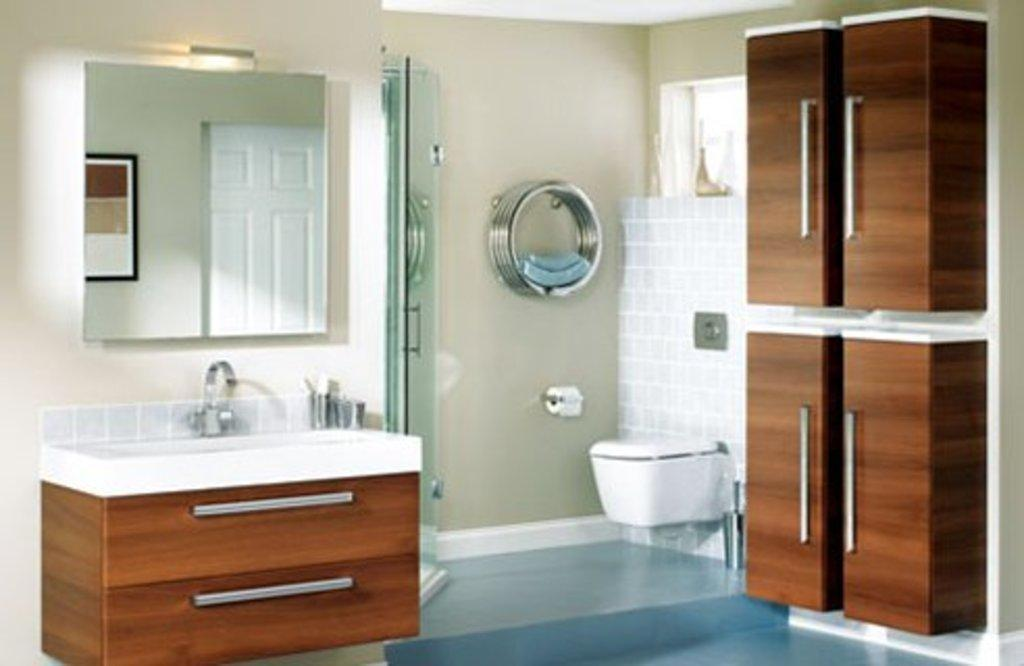door: (206, 127, 324, 330)
